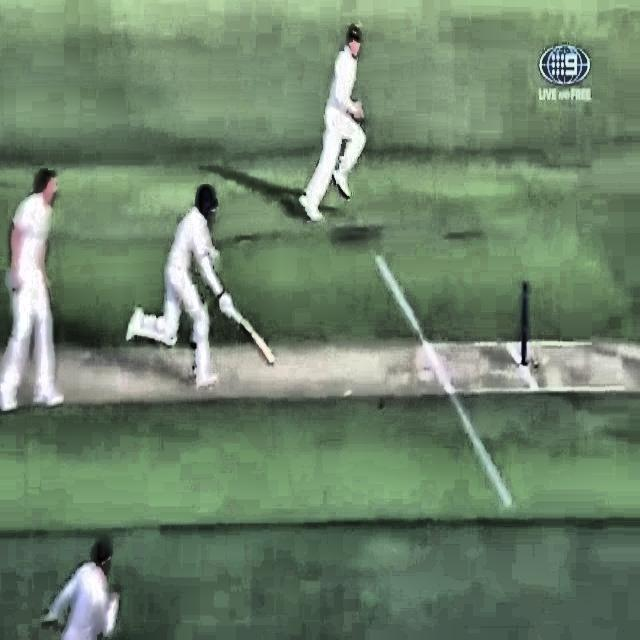Bat: (213, 291, 278, 368)
Pitch_Line: (373, 253, 514, 509)
Undis_Wicket: (515, 279, 541, 368)
